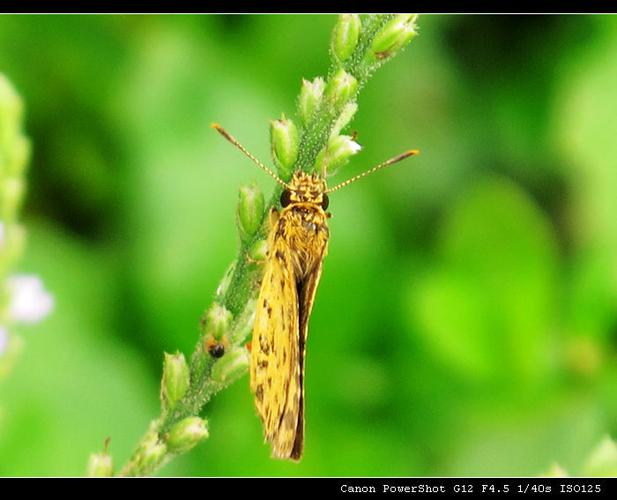Hesperiidae: (207, 120, 419, 454)
